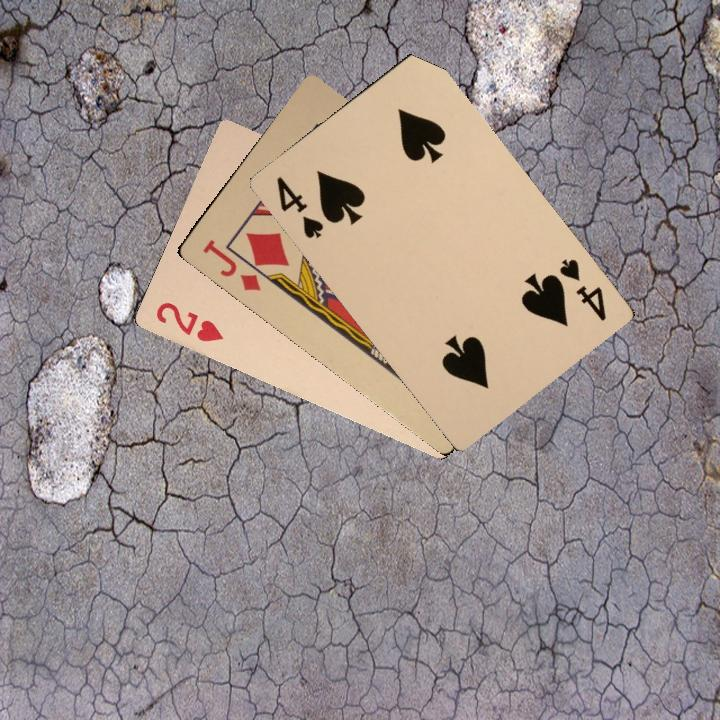2h: (152, 297, 227, 345)
4s: (272, 172, 327, 242), (555, 254, 609, 324)
Jd: (199, 235, 263, 294)
